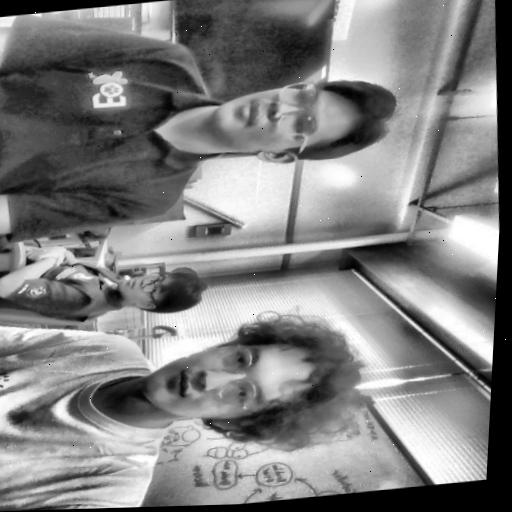Daifuku: (147, 310, 379, 465)
Not Daifuku: (204, 70, 404, 173), (111, 265, 211, 318)
